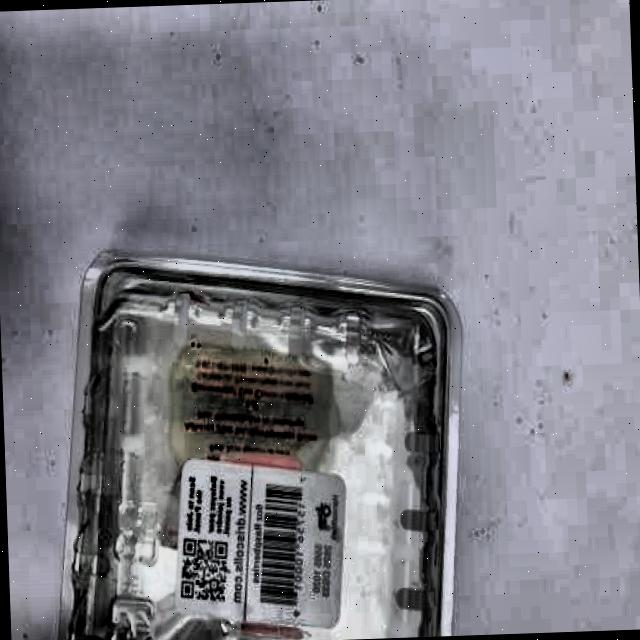plastic: (42, 233, 478, 640)
